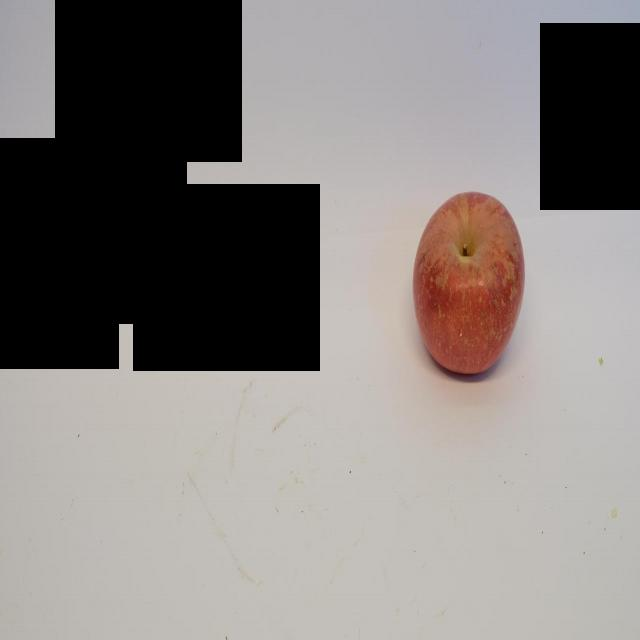apple: (412, 190, 526, 376)
